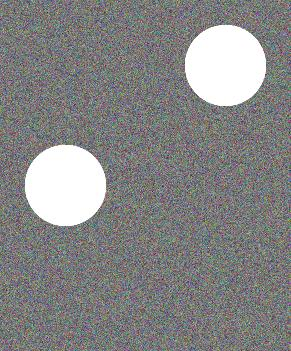I: (16, 15, 274, 334)
